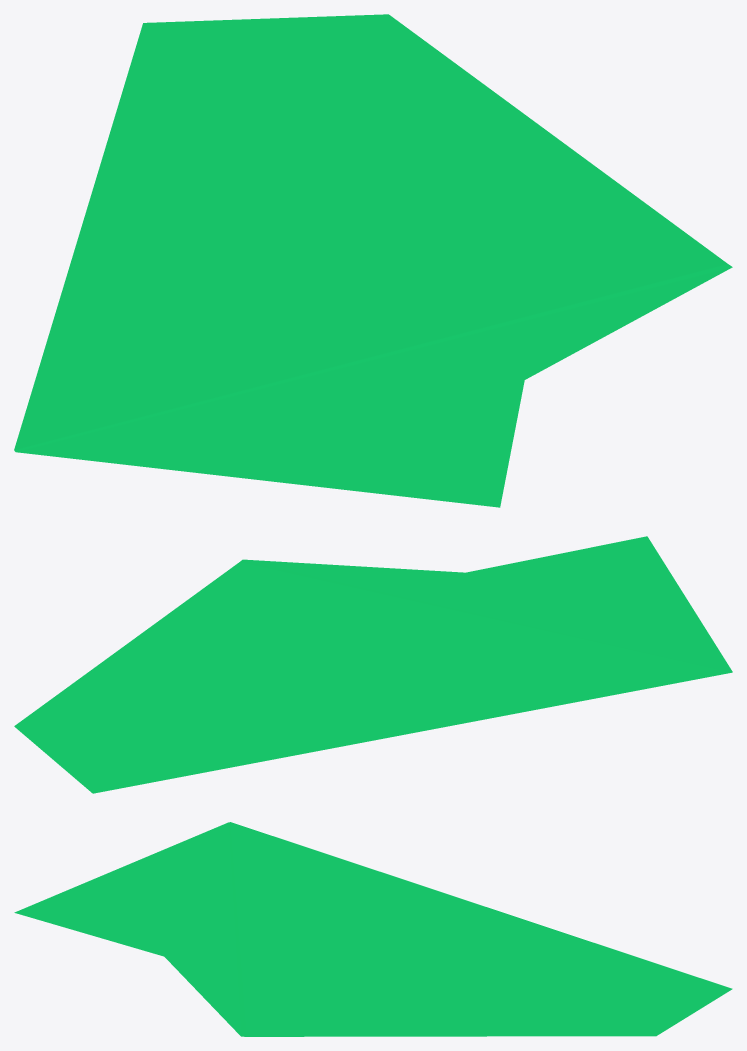
The model's file is Skypad_Geobridge_Pond.FBX.
The picture shows the model from 3 angles, top to bottom: view 1: azimuth 30°, elevation 25°; view 2: azimuth 150°, elevation 25°; view 3: azimuth 270°, elevation 25°; orthographic projection. The views are drawn at different scales.
Bounding box in the file's own units: 395 × 5.51 × 560.
